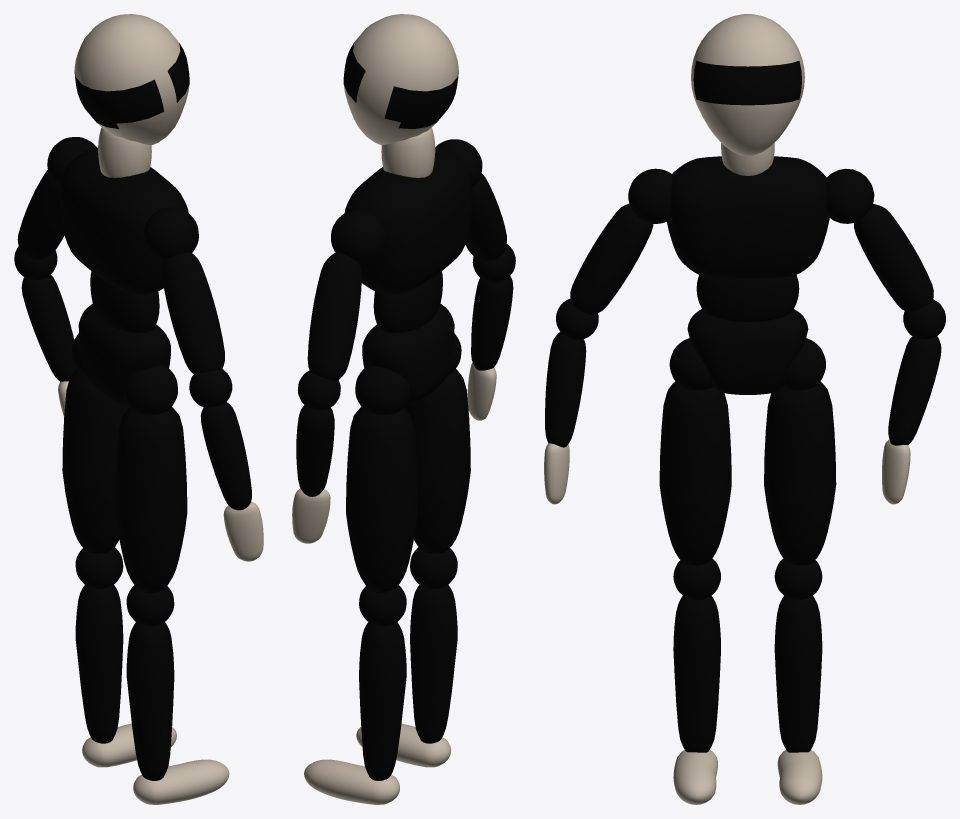
The model's file is figure - thief.fbx.
The picture shows the model from 3 angles, left to right: view 1: azimuth 30°, elevation 25°; view 2: azimuth 150°, elevation 25°; view 3: azimuth 270°, elevation 25°; orthographic projection.
Parts seen in each view (by area): view 1: polySurface119; view 2: polySurface119; view 3: polySurface119.
Part boxes in pixels (<box>): polySurface119: <box>14,14,263,804</box>; polySurface119: <box>292,14,515,804</box>; polySurface119: <box>544,14,945,804</box>.
Size of the model in its own units: 3.36 by 20.65 by 9.89.
